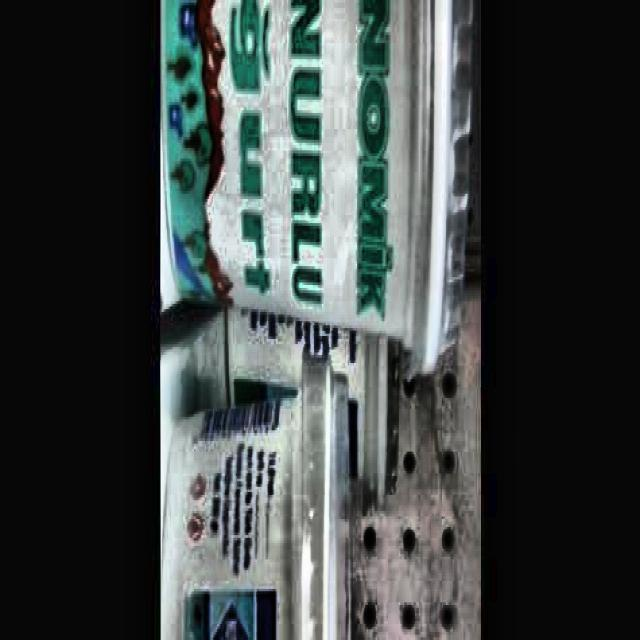plastic: (163, 0, 472, 368)
